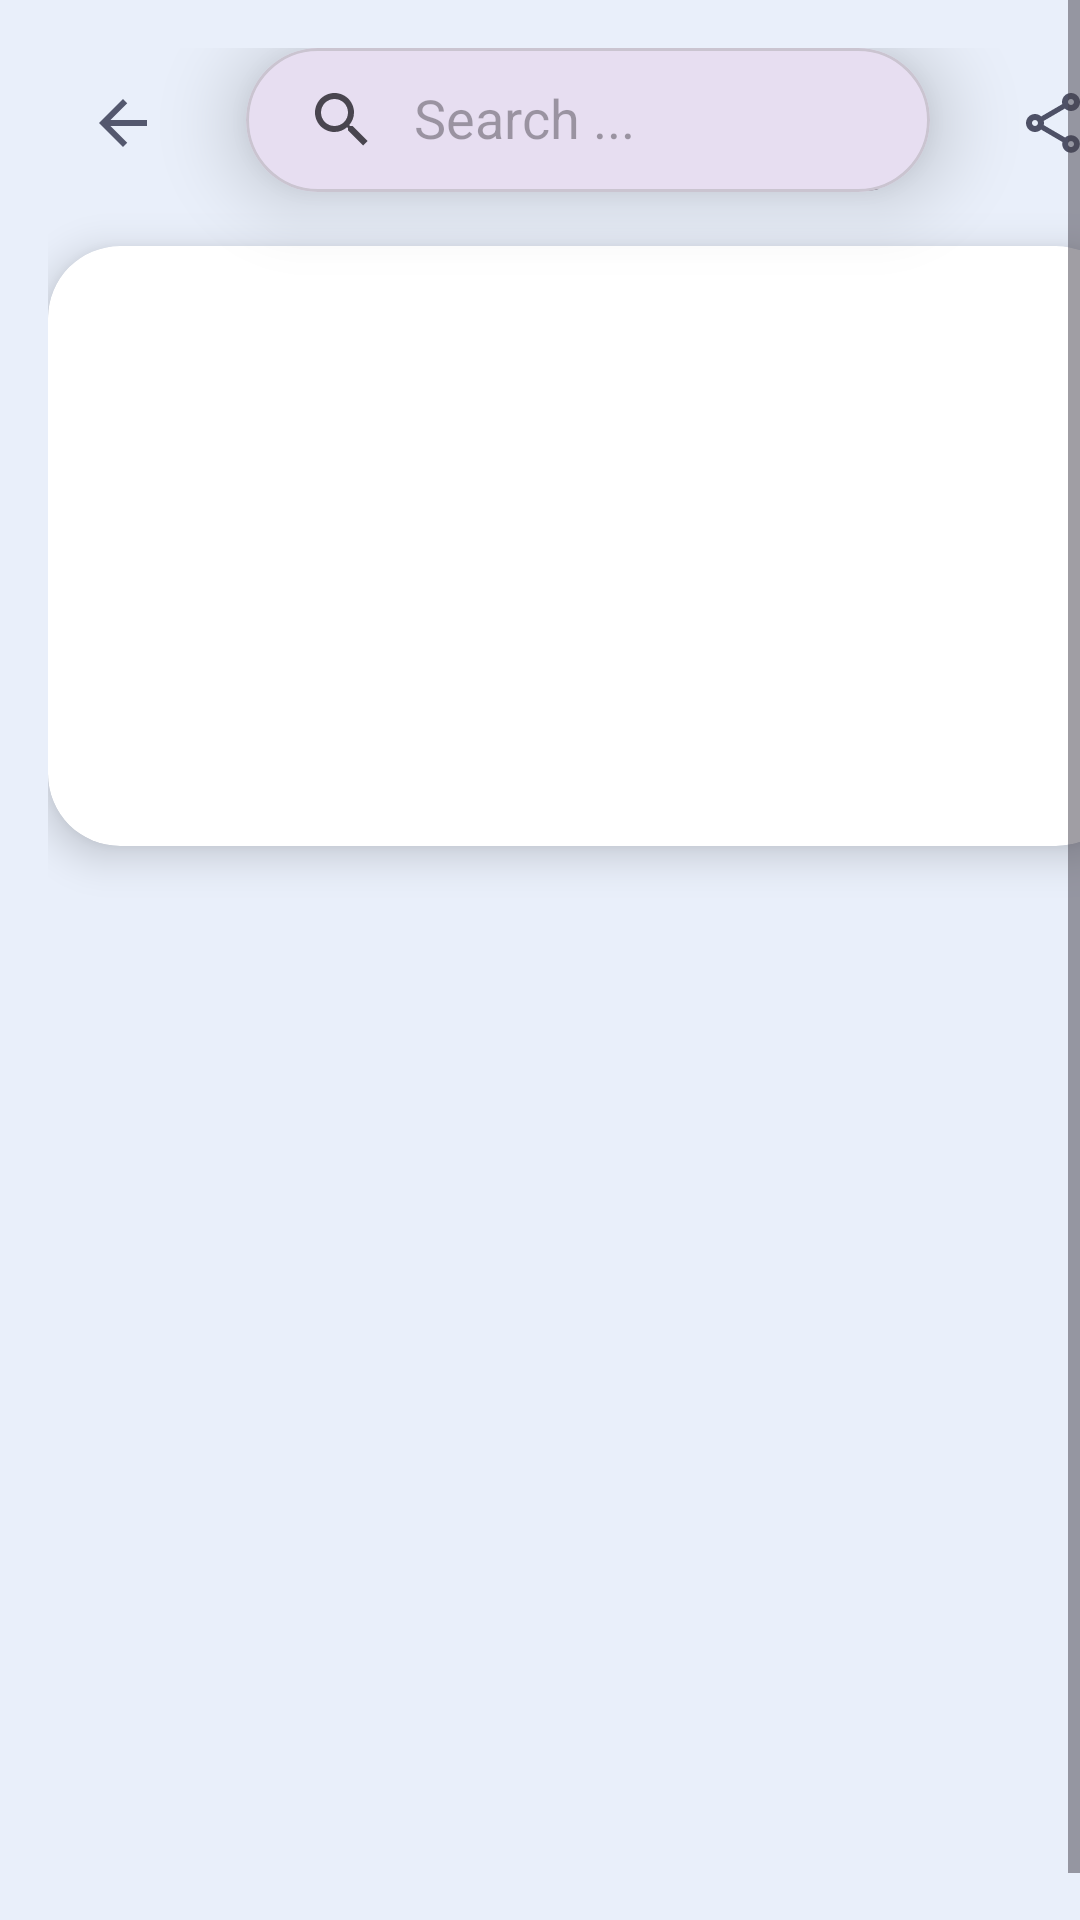

Icons on this 1080 x 1920 Android screen, each with the point to tap as (x=x, y=y):
back: (x=123, y=123)
